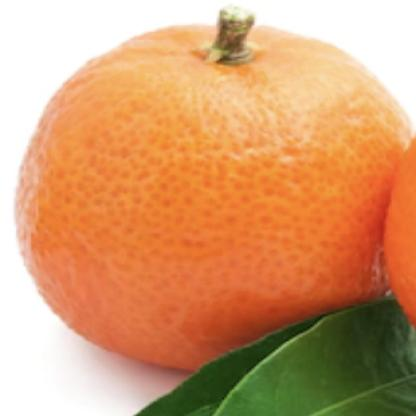fresh: (22, 10, 406, 364)
